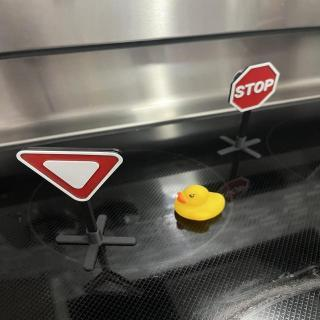duck_regular: (174, 184, 227, 223)
sign_stop: (230, 62, 282, 114)
sign_yield: (18, 148, 126, 205)
